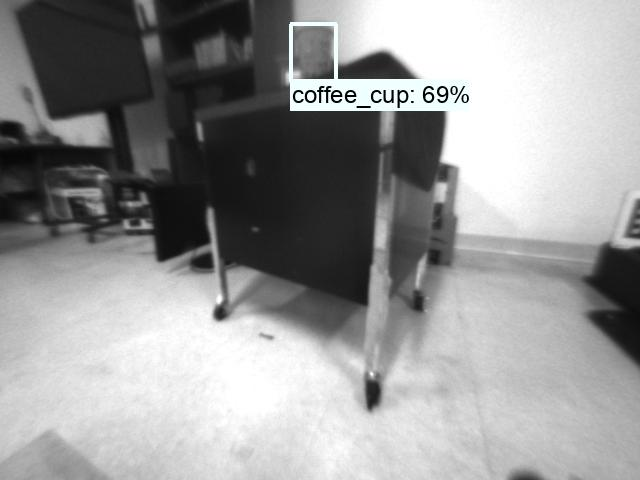coffee_cup: (292, 24, 332, 80)
